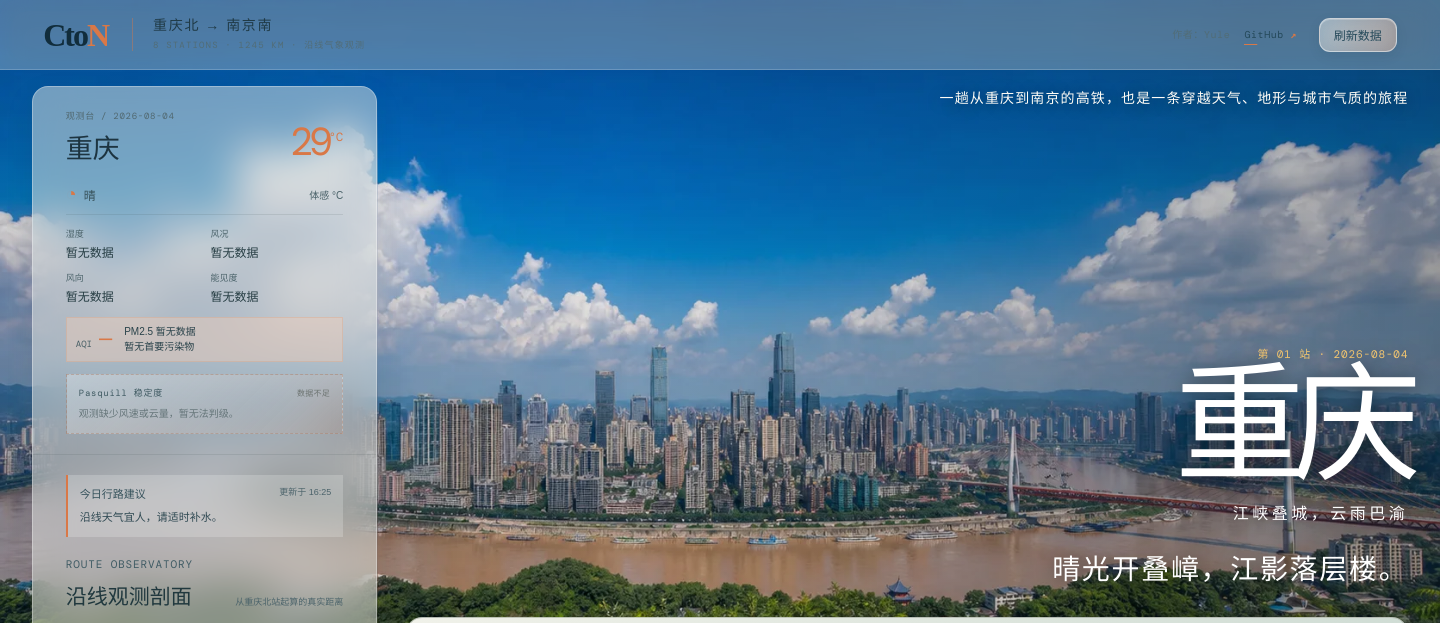
it: 核心观测交互 › 按北京时间显示当天和历史建议的更新时间
The width and height of the screenshot is (1440, 623).
Expected: the text "更新于 16:25" is shown, top-left (279, 486), bottom-right (331, 496)
What coordinates should you click on to do the following:
click the button with class "refresh-button"
I would click on:
 (1358, 34)
Its box is top-left (1319, 18), bottom-right (1397, 52).
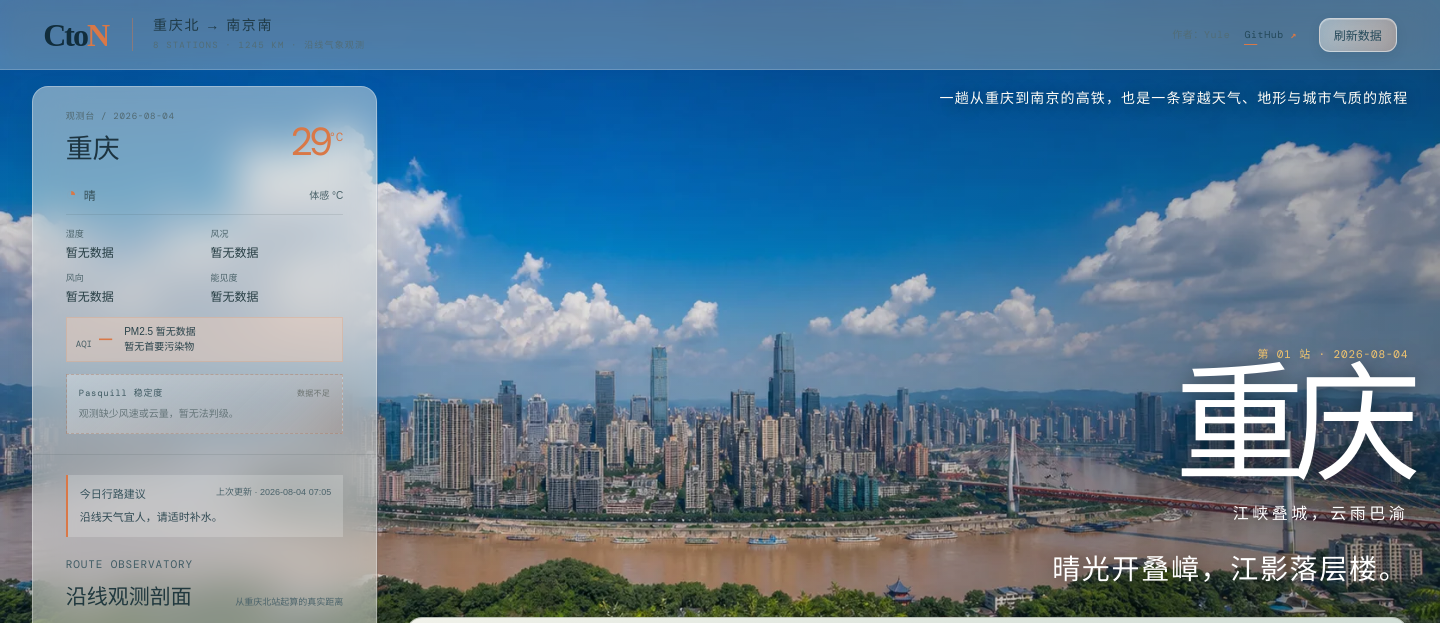
Result: the text "上次更新 · 2026-08-04 07:05" is shown at top-left (216, 486), bottom-right (331, 496)
